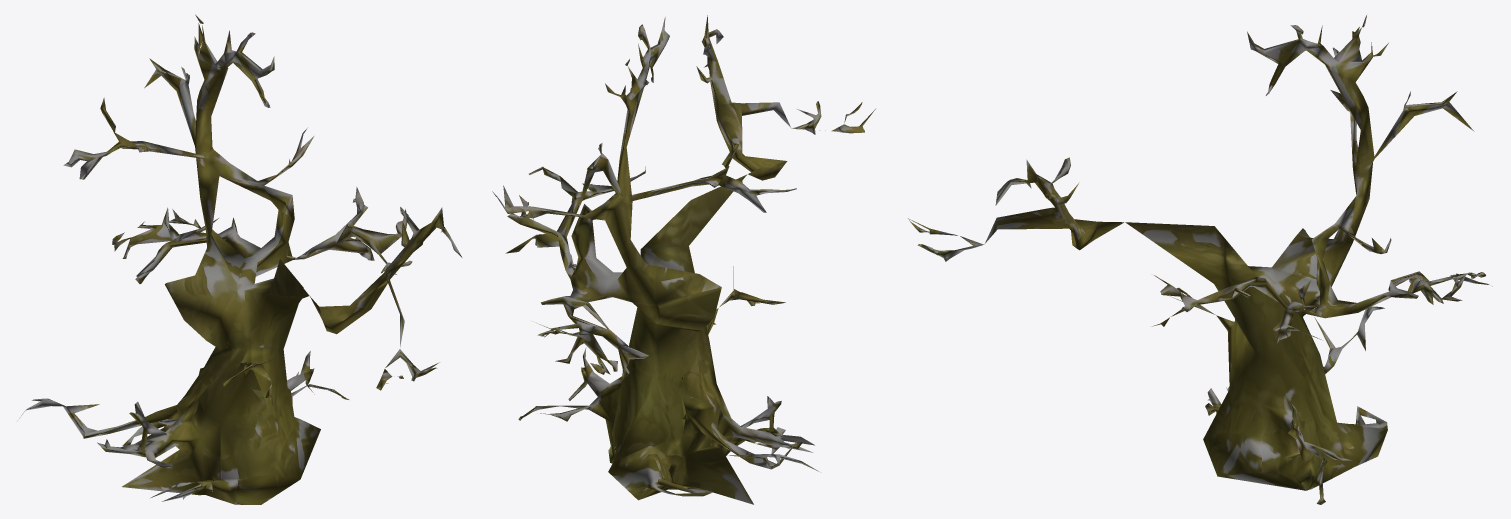
Rendered from arbolseco_lo.glb.
3 renders of one model, left to right at view 1: azimuth 30°, elevation 25°; view 2: azimuth 150°, elevation 25°; view 3: azimuth 270°, elevation 25°, orthographic. The views are drawn at different scales.
Visible parts, largest first — view 1: tripo_node_a2c00b80-557d-4962-9bea-c83de394937c; view 2: tripo_node_a2c00b80-557d-4962-9bea-c83de394937c; view 3: tripo_node_a2c00b80-557d-4962-9bea-c83de394937c.
Boxes of the visible parts, <box> form: tripo_node_a2c00b80-557d-4962-9bea-c83de394937c: <box>19,14,462,504</box>; tripo_node_a2c00b80-557d-4962-9bea-c83de394937c: <box>492,15,875,504</box>; tripo_node_a2c00b80-557d-4962-9bea-c83de394937c: <box>908,15,1492,504</box>.
Bounding box in the file's own units: 0.6875 × 0.8615 × 0.9861.
Materials: 1 (1 with a texture image).
